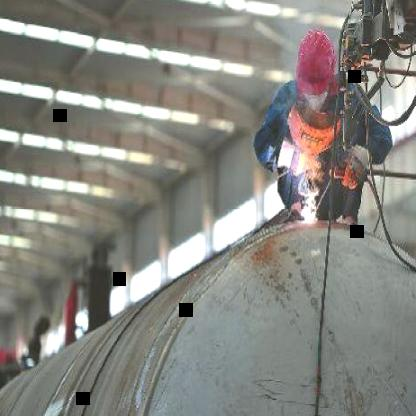helmet: (292, 22, 340, 108)
